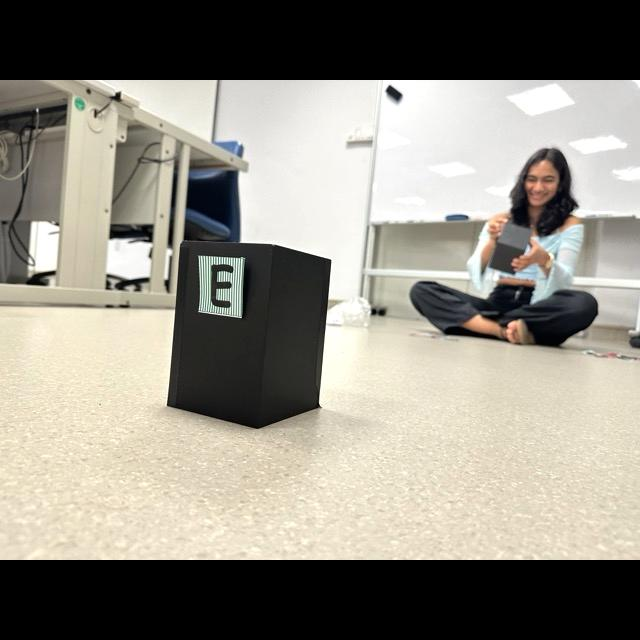E: (211, 265, 234, 308)
